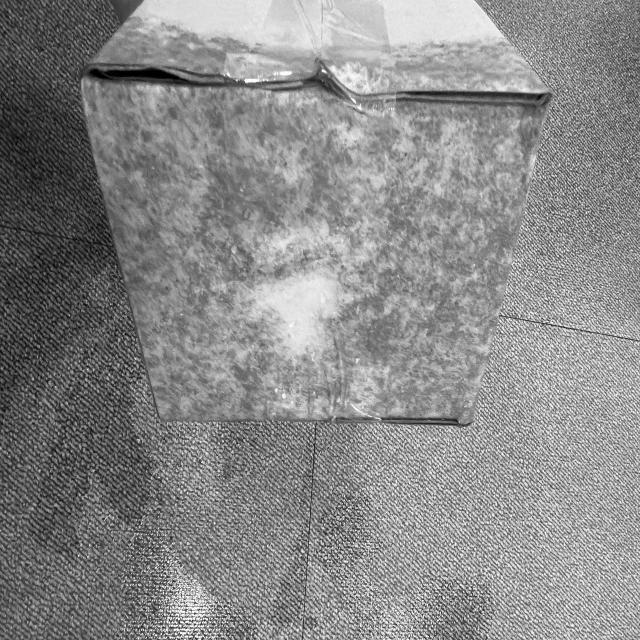wet: (98, 20, 546, 431)
